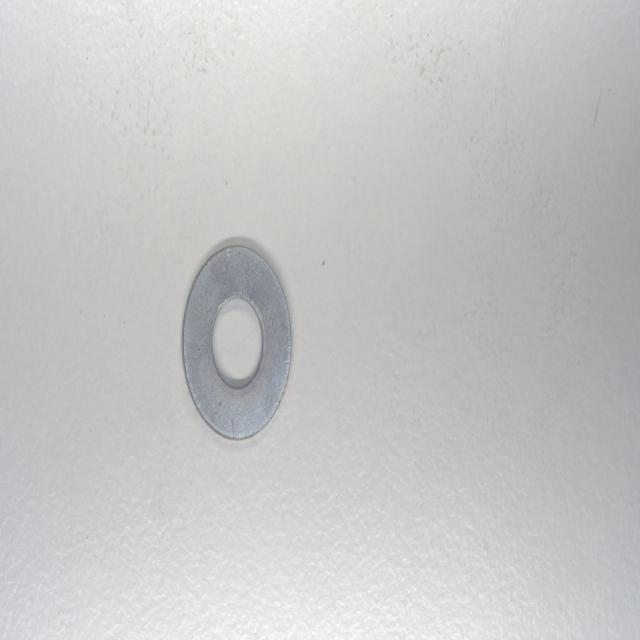washer: (182, 245, 294, 442)
